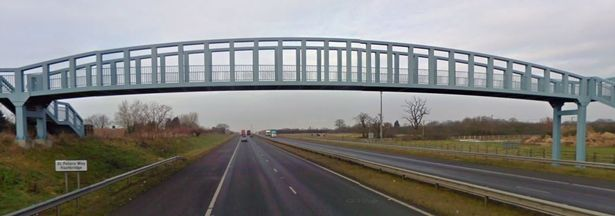bridge: (1, 35, 612, 165)
